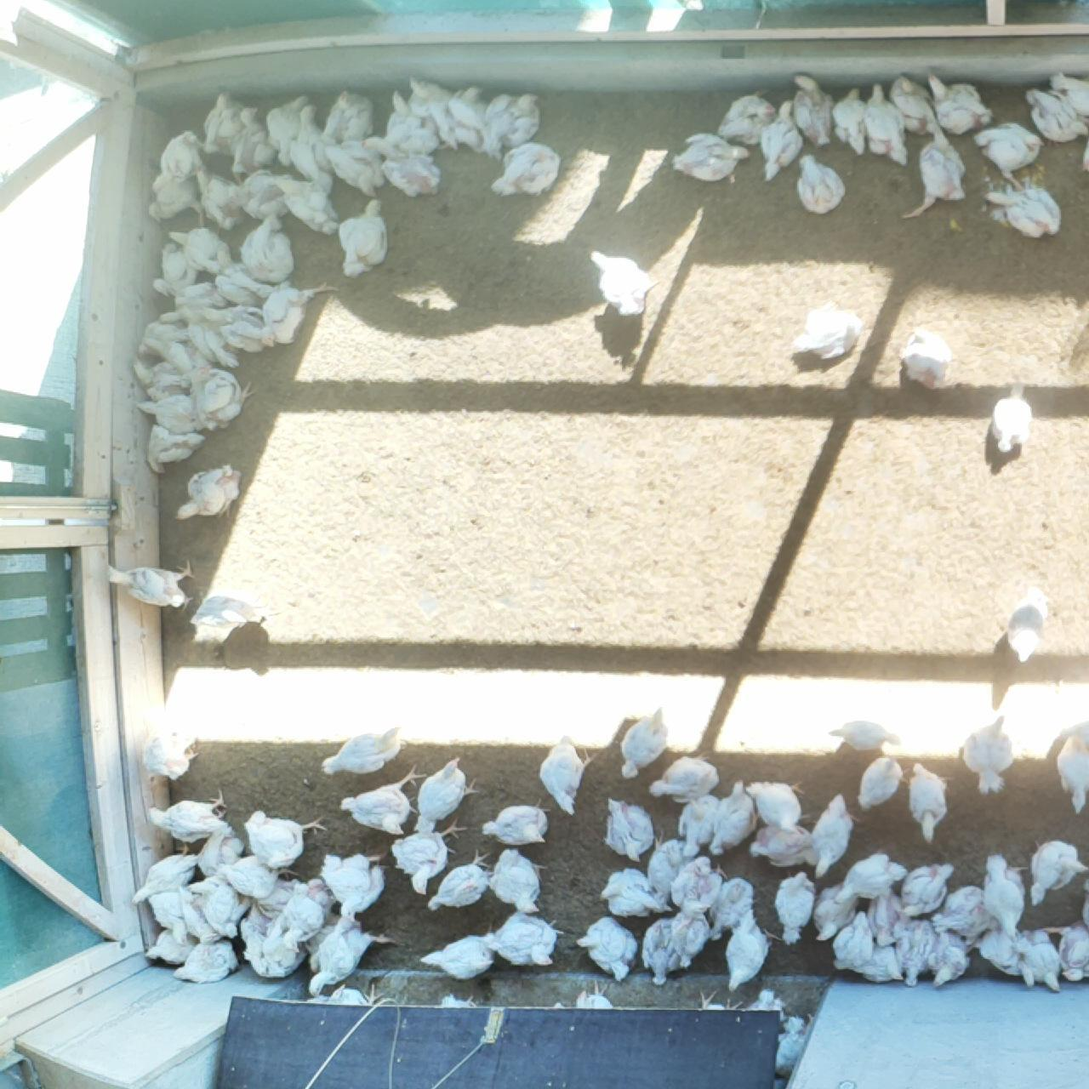chicken: (898, 117, 968, 229), (305, 915, 389, 1003), (480, 895, 568, 971), (530, 730, 600, 820), (980, 170, 1066, 242), (788, 285, 864, 366), (255, 278, 338, 352), (332, 765, 417, 835), (240, 803, 328, 869), (583, 243, 659, 318), (801, 785, 858, 884), (970, 114, 1043, 191), (387, 808, 455, 890), (361, 135, 443, 202), (963, 706, 1022, 799), (414, 746, 479, 830), (104, 553, 201, 609), (284, 100, 342, 193), (996, 573, 1055, 664), (573, 907, 641, 985), (185, 582, 270, 644), (714, 900, 773, 989), (490, 132, 563, 203), (126, 841, 207, 904), (336, 193, 394, 280), (172, 461, 249, 526), (893, 321, 960, 395), (608, 700, 673, 776), (185, 362, 254, 433), (237, 906, 304, 979), (487, 842, 550, 919), (862, 76, 914, 168), (271, 172, 341, 240), (425, 848, 495, 916), (668, 129, 750, 187), (318, 722, 404, 777), (479, 90, 544, 162), (145, 791, 234, 843), (321, 850, 388, 919), (743, 812, 821, 871), (211, 847, 297, 900), (236, 218, 304, 285), (974, 849, 1028, 933), (1025, 834, 1087, 905), (903, 759, 953, 846), (596, 791, 658, 861), (709, 773, 760, 858), (826, 849, 904, 904), (140, 128, 206, 193), (760, 95, 807, 186), (222, 102, 278, 178), (790, 66, 841, 149), (793, 147, 851, 219), (1022, 83, 1089, 145), (986, 373, 1036, 456), (383, 87, 444, 155), (900, 859, 965, 922), (326, 132, 389, 197), (136, 721, 202, 783), (924, 69, 991, 130), (188, 164, 248, 232), (184, 880, 251, 939), (475, 795, 550, 847), (1036, 913, 1089, 985), (768, 867, 813, 950), (202, 301, 271, 355), (145, 177, 209, 235), (590, 868, 660, 921), (639, 912, 687, 989), (647, 750, 726, 796), (1013, 923, 1064, 994), (822, 712, 906, 755), (410, 930, 496, 972), (647, 831, 697, 903), (165, 225, 237, 275), (180, 310, 244, 366), (740, 773, 809, 824), (170, 938, 243, 986), (717, 89, 778, 146), (195, 85, 246, 153), (142, 888, 199, 948), (284, 886, 333, 955), (147, 237, 201, 299), (706, 873, 754, 942), (931, 878, 989, 935), (827, 83, 871, 158), (674, 854, 727, 916), (403, 72, 456, 134), (234, 168, 296, 221), (205, 251, 267, 304), (886, 71, 941, 130), (770, 1009, 817, 1077), (143, 422, 201, 477), (267, 90, 306, 170), (1054, 725, 1089, 814), (134, 393, 208, 435), (925, 926, 974, 989), (823, 907, 872, 970), (320, 85, 375, 141), (888, 914, 928, 990), (861, 883, 910, 945), (158, 283, 223, 327), (808, 885, 854, 945), (971, 926, 1025, 977), (856, 757, 903, 815), (669, 907, 716, 965), (128, 351, 185, 398), (672, 791, 713, 855), (447, 80, 485, 149), (195, 827, 248, 873), (135, 312, 190, 355), (145, 925, 192, 972), (860, 943, 908, 987), (1047, 69, 1089, 118), (260, 875, 299, 918), (323, 978, 390, 1003), (570, 978, 619, 1008), (745, 988, 785, 1009)
